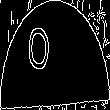O_S: (43, 28, 67, 82)
